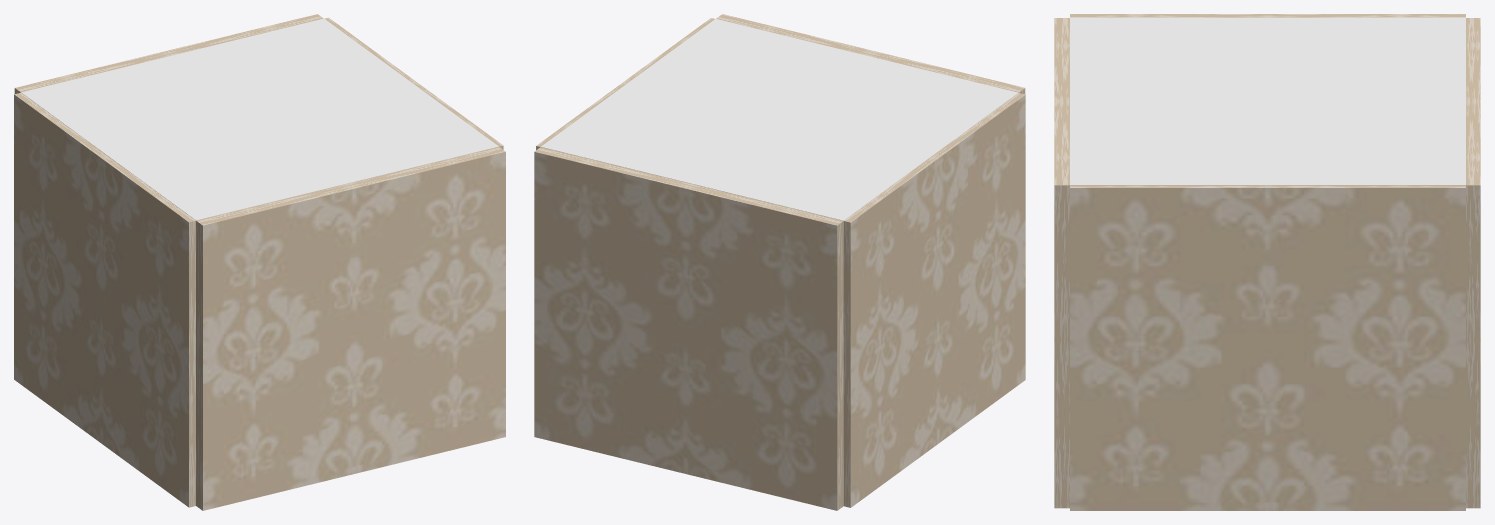
File: room ok.fbx
3 renders of one model, left to right at view 1: azimuth 30°, elevation 25°; view 2: azimuth 150°, elevation 25°; view 3: azimuth 270°, elevation 25°, orthographic. The views are drawn at different scales.
Visible parts, largest first — view 1: house4:house4:wall_f, house4:house5:house4:wall_f, roof, house4:wall_R, house4:house6:house5:house4:wall_f; view 2: house4:wall_R, house4:house5:house4:wall_f, roof, house4:house4:wall_f, house4:house6:house5:house4:wall_f; view 3: house4:house6:house5:house4:wall_f, roof, house4:house4:wall_f, house4:wall_R, house4:house5:house4:wall_f.
Boxes of the visible parts, x1=… form: house4:house4:wall_f: x1=196, y1=147, x2=505, y2=510; house4:house5:house4:wall_f: x1=14, y1=92, x2=195, y2=507; roof: x1=21, y1=18, x2=498, y2=220; house4:wall_R: x1=14, y1=14, x2=323, y2=93; house4:house6:house5:house4:wall_f: x1=325, y1=17, x2=503, y2=149; house4:wall_R: x1=534, y1=147, x2=843, y2=510; house4:house5:house4:wall_f: x1=843, y1=93, x2=1025, y2=507; roof: x1=541, y1=19, x2=1018, y2=220; house4:house4:wall_f: x1=716, y1=14, x2=1025, y2=94; house4:house6:house5:house4:wall_f: x1=536, y1=18, x2=714, y2=149; house4:house6:house5:house4:wall_f: x1=1070, y1=185, x2=1465, y2=510; roof: x1=1070, y1=17, x2=1465, y2=185; house4:house4:wall_f: x1=1054, y1=18, x2=1069, y2=508; house4:wall_R: x1=1466, y1=18, x2=1480, y2=508; house4:house5:house4:wall_f: x1=1070, y1=14, x2=1465, y2=17.
Bounding box in the file's own units: 1039 × 901 × 1076.
8 materials, 8 textured.
